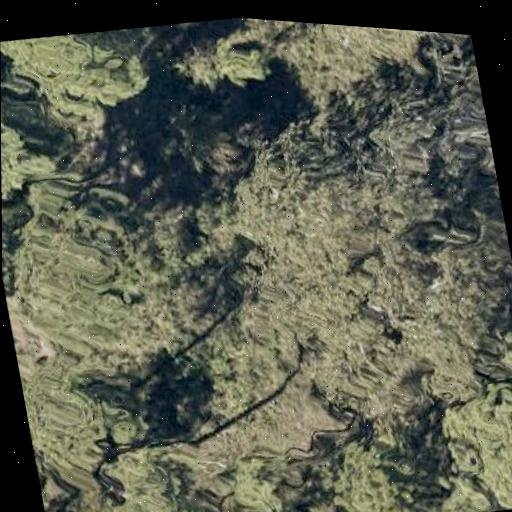tree-top: (1, 140, 224, 382), (207, 93, 405, 308), (369, 210, 512, 395), (357, 48, 498, 202), (18, 345, 149, 495), (0, 15, 162, 136), (275, 20, 436, 118), (312, 421, 440, 512), (431, 371, 512, 512), (170, 16, 277, 110), (120, 436, 217, 512), (1, 69, 49, 207), (493, 237, 512, 362), (418, 31, 474, 65)
